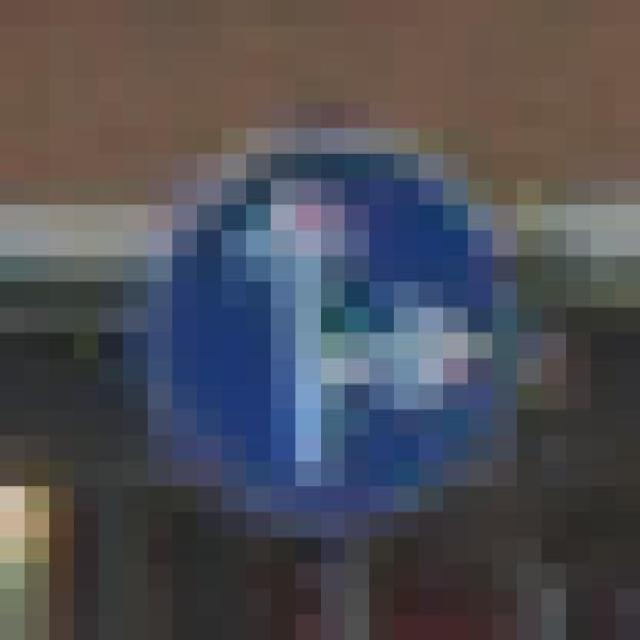Go Straight or Turn Right: (123, 76, 542, 538)
